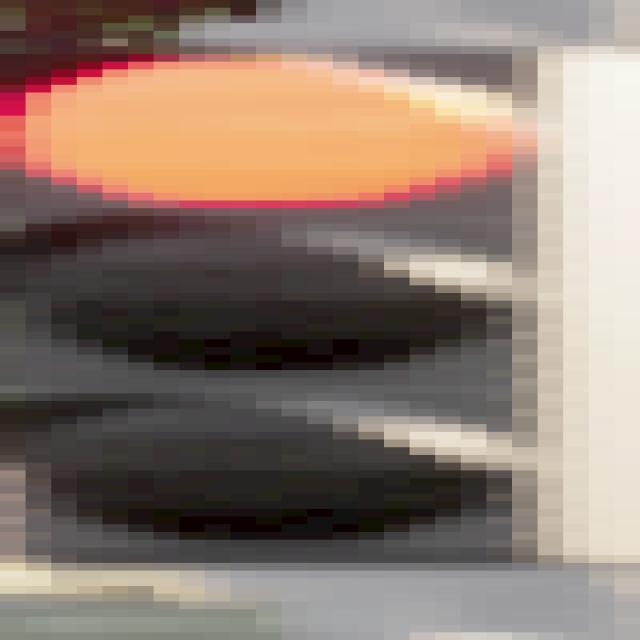red_light: (0, 43, 609, 576)
